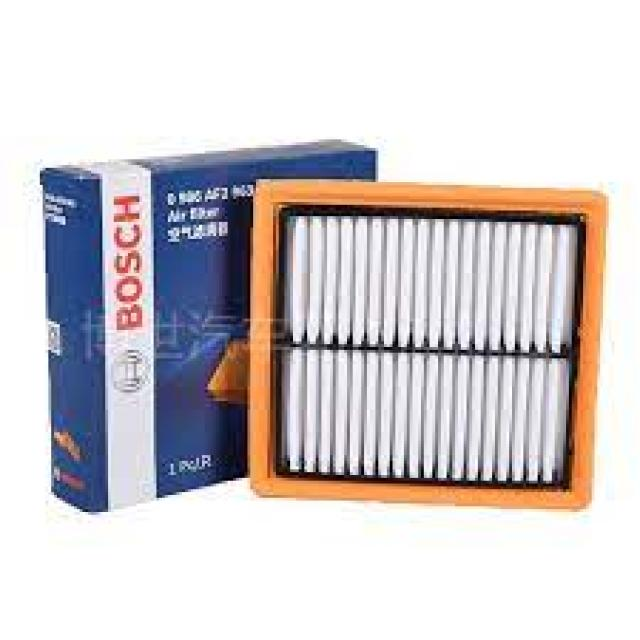air_filter: (250, 176, 601, 517)
